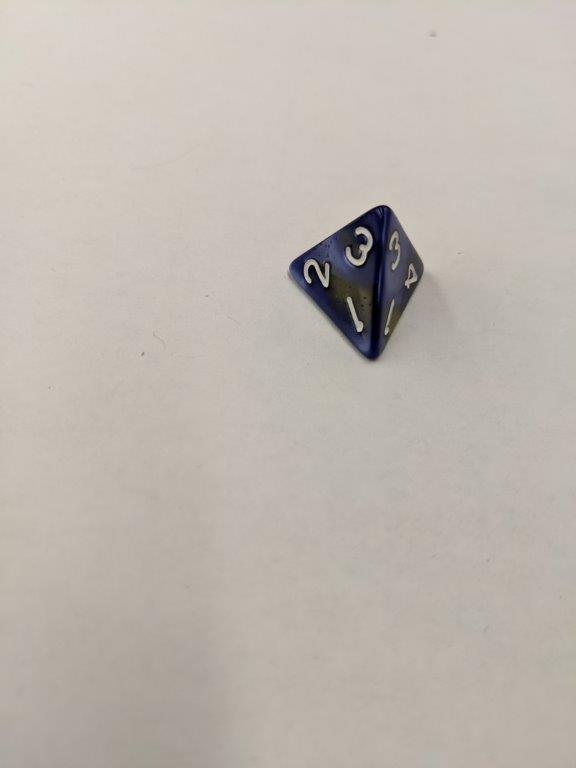d4-3: (284, 206, 427, 361)
